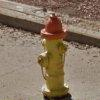Hydrant: (32, 10, 77, 100)
